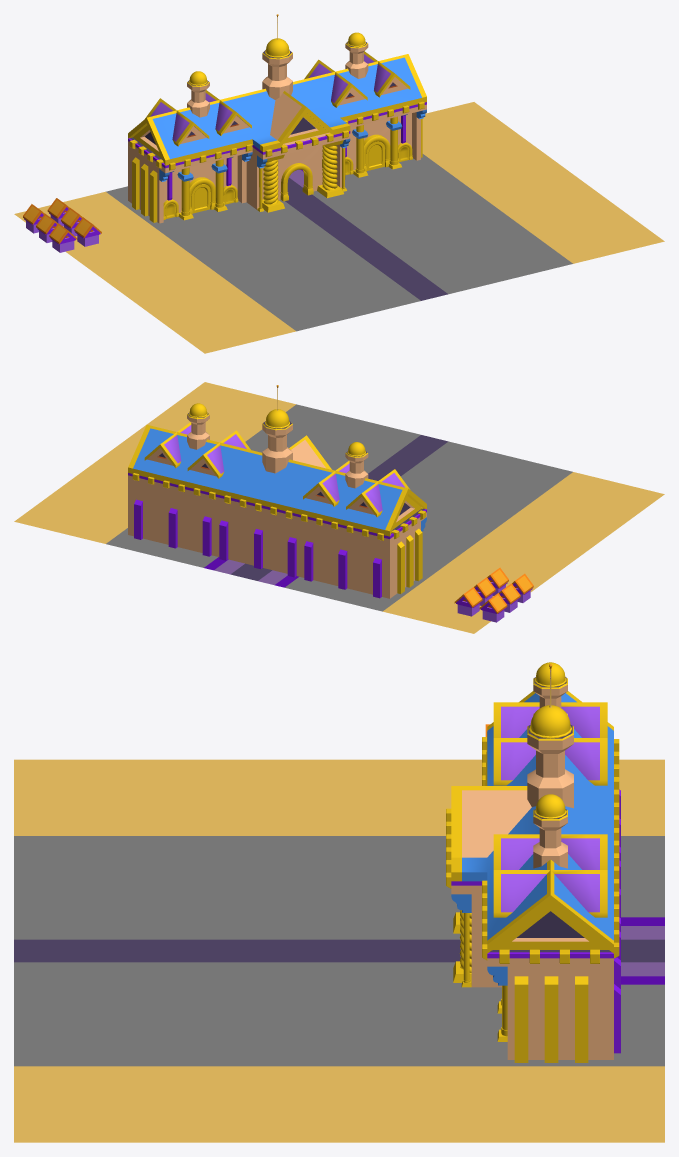
The model's file is CastleZone2.fbx.
The picture shows the model from 3 angles, top to bottom: view 1: azimuth 30°, elevation 25°; view 2: azimuth 150°, elevation 25°; view 3: azimuth 270°, elevation 25°; orthographic projection. The views are drawn at different scales.
Parts seen in each view (by area): view 1: CentralGround, BigBuilding, LeftGround, Houses; view 2: BigBuilding, LeftGround, CentralGround, Houses; view 3: CentralGround, LeftGround, BigBuilding.
Part boxes in pixels (x1=…): CentralGround: x1=106, y1=154, x2=572, y2=331; BigBuilding: x1=128, y1=14, x2=426, y2=223; LeftGround: x1=14, y1=102, x2=664, y2=353; Houses: x1=23, y1=198, x2=101, y2=252; BigBuilding: x1=128, y1=385, x2=426, y2=598; LeftGround: x1=14, y1=382, x2=664, y2=633; CentralGround: x1=106, y1=404, x2=572, y2=611; Houses: x1=454, y1=567, x2=533, y2=622; CentralGround: x1=14, y1=836, x2=664, y2=1066; LeftGround: x1=14, y1=759, x2=664, y2=1142; BigBuilding: x1=446, y1=662, x2=620, y2=1062.
Bounding box in the file's own units: 7383 × 2545 × 5224.
